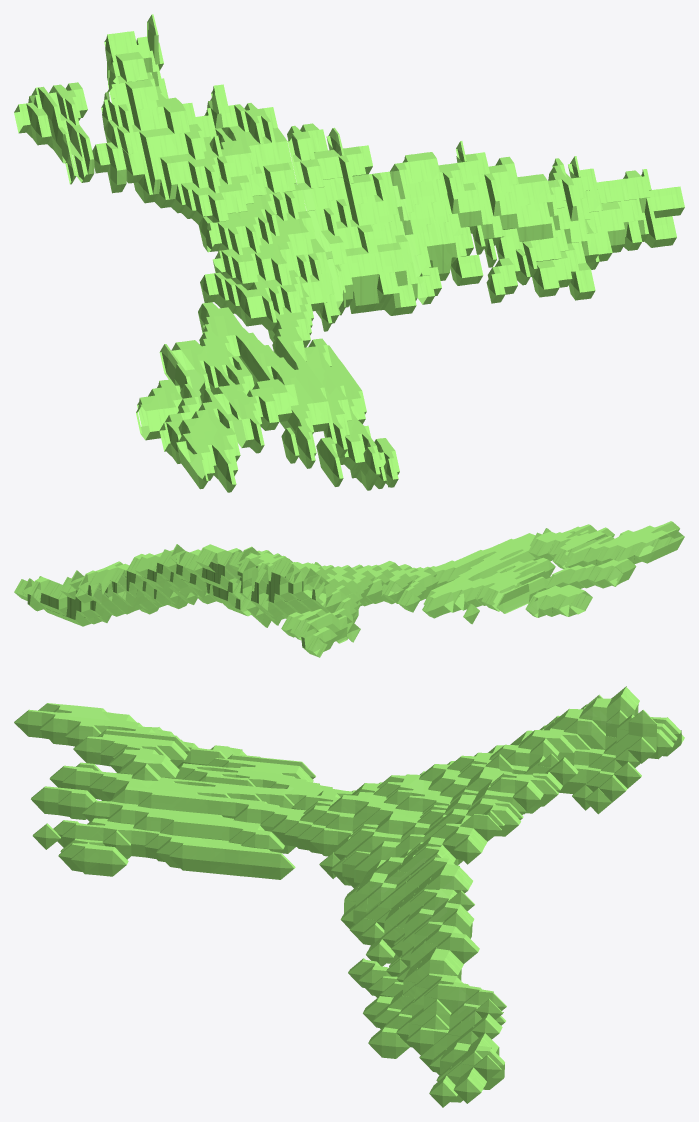
File: SVV_BWM-DL07.gltf
3 views of the same model, one above another, from view 1: azimuth 30°, elevation 25°; view 2: azimuth 150°, elevation 25°; view 3: azimuth 270°, elevation 25° (orthographic). The views are drawn at different scales.
Visible parts, largest first — view 1: BWM-DL07; view 2: BWM-DL07; view 3: BWM-DL07.
Part boxes in pixels (x1,y1,x2,y2): BWM-DL07: (14, 14, 684, 492); BWM-DL07: (14, 521, 684, 657); BWM-DL07: (14, 686, 684, 1107).
Size of the model in its own units: 34111 by 11198 by 30811.
